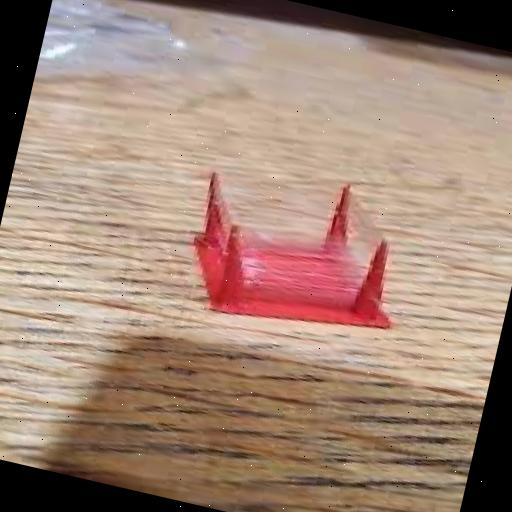stringing: (220, 169, 331, 245), (237, 241, 364, 304), (331, 195, 384, 287)
